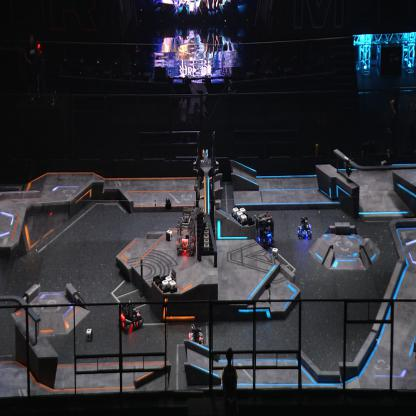car: (175, 207, 196, 255), (117, 297, 144, 334), (253, 210, 275, 249), (187, 320, 205, 350), (296, 215, 312, 239)
